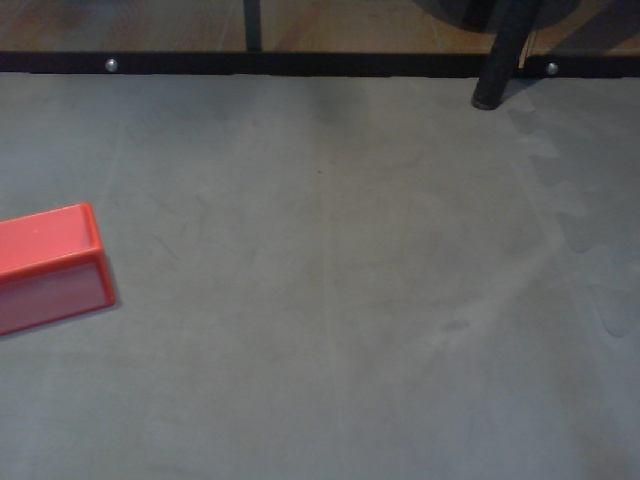RedSample: (1, 200, 118, 339)
